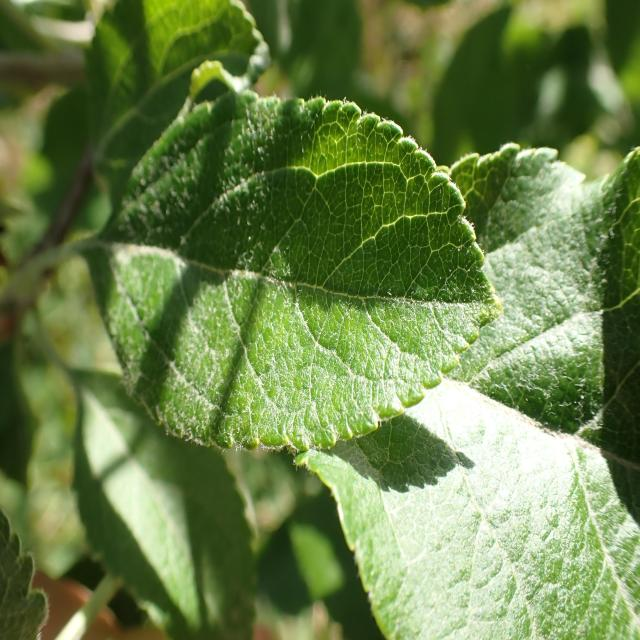healthy: (303, 144, 640, 640), (91, 88, 502, 468), (71, 364, 258, 639)
